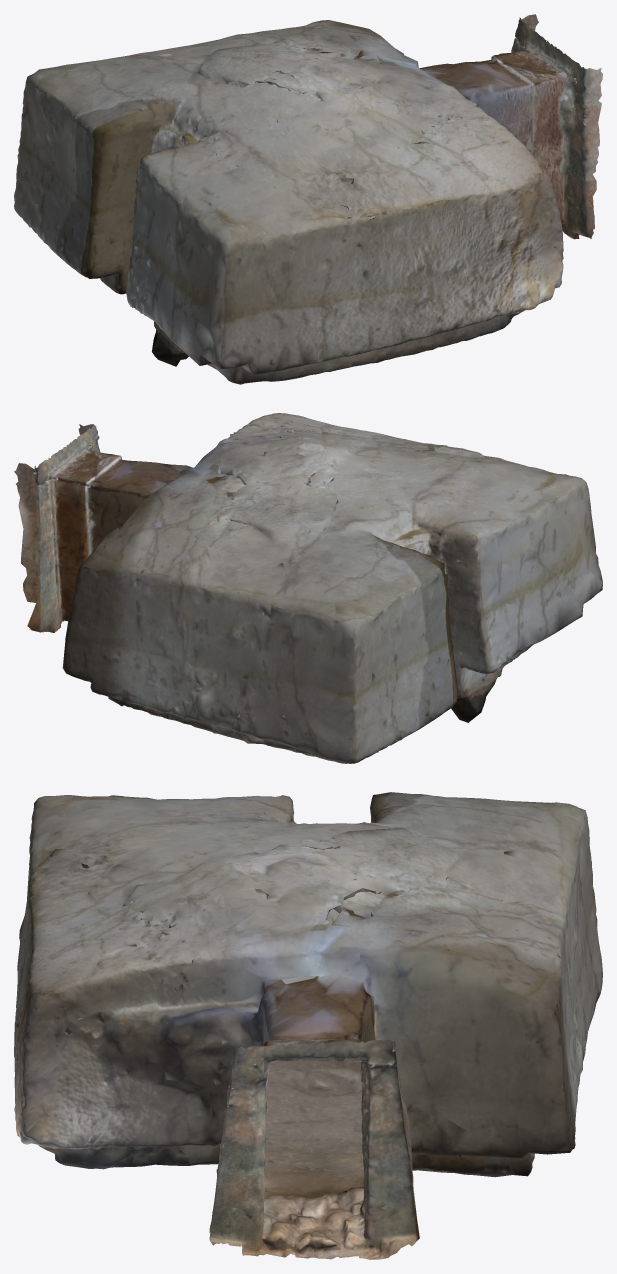
The model's file is Tafos159_Inside.fbx.
3 views of the same model, one above another, from view 1: azimuth 30°, elevation 25°; view 2: azimuth 150°, elevation 25°; view 3: azimuth 270°, elevation 25° (orthographic). The views are drawn at different scales.
Parts seen in each view (by area): view 1: Tafos159-video130821; view 2: Tafos159-video130821; view 3: Tafos159-video130821.
Boxes of the visible parts, x1,y1,x2,y2 form: Tafos159-video130821: [14, 14, 602, 384]; Tafos159-video130821: [14, 413, 602, 763]; Tafos159-video130821: [14, 792, 602, 1259].
Size of the model in its own units: 429 by 378 by 208.
